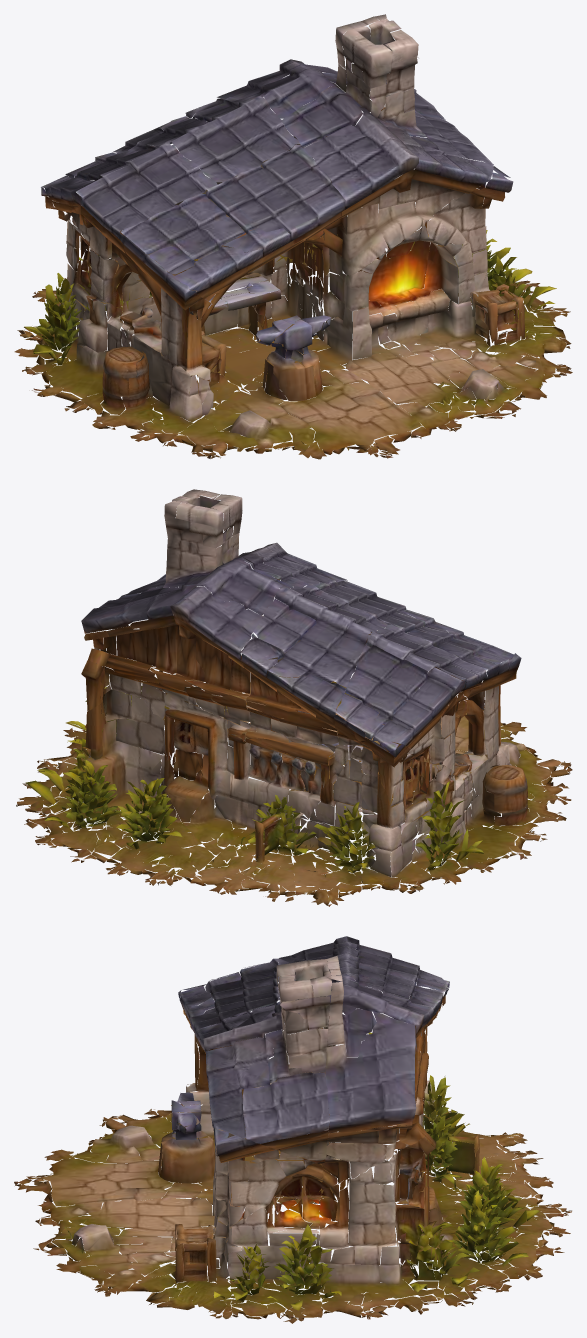
File: boucherie_t2.glb
3 views of the same model, one above another, from view 1: azimuth 30°, elevation 25°; view 2: azimuth 150°, elevation 25°; view 3: azimuth 270°, elevation 25° (orthographic). The views are drawn at different scales.
Visible parts, largest first — view 1: boucherie_t2; view 2: boucherie_t2; view 3: boucherie_t2.
Boxes of the visible parts, x1=… form: boucherie_t2: x1=14, y1=14, x2=572, y2=459; boucherie_t2: x1=16, y1=489, x2=572, y2=906; boucherie_t2: x1=14, y1=936, x2=571, y2=1323.
Bounding box in the file's own units: 0.9971 × 0.5543 × 0.9852.
1 material, 1 textured.
